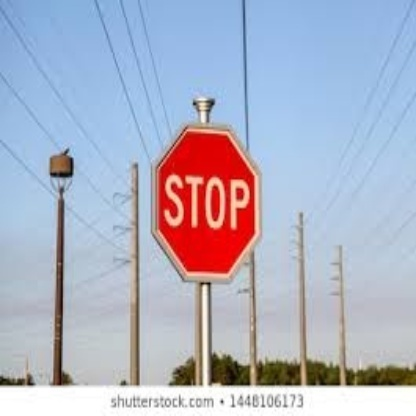stop: (151, 128, 262, 282)
